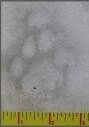cat: (6, 24, 80, 106)
